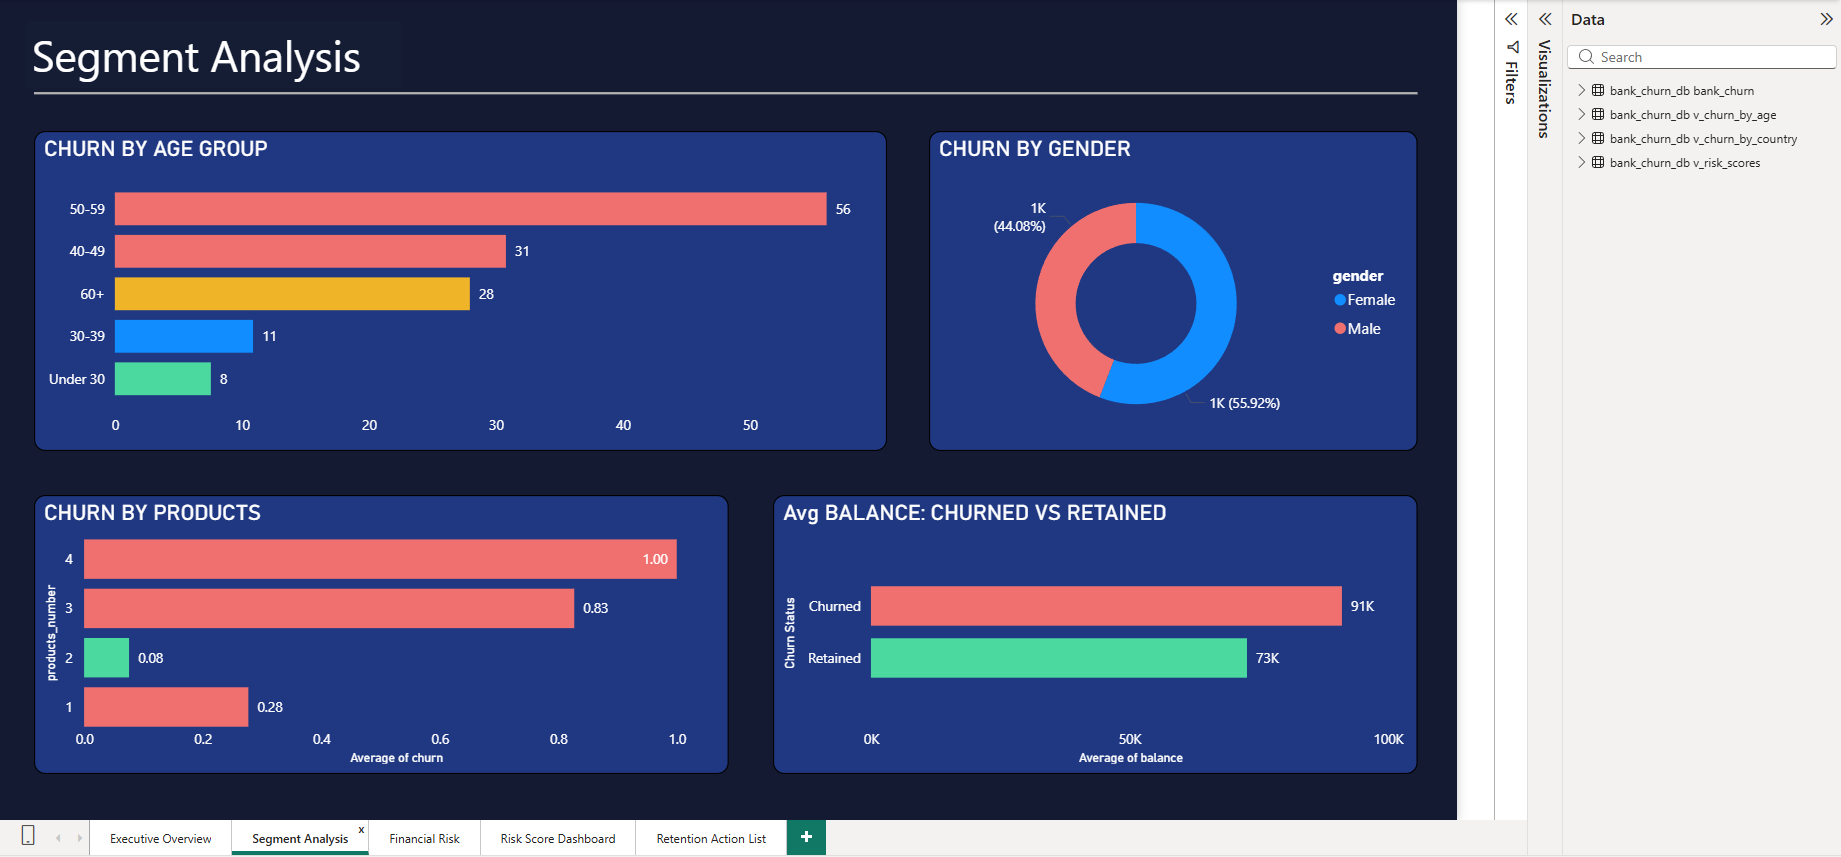

Layout of this report page (visuals, bound fields, positions):
{"tool":"powerbi","page":{"name":"Segment Analysis","canvas":[1280,720],"ordinal":1},"visuals":[{"type":"clusteredBarChart","title":"CHURN BY AGE GROUP","fields":{"Category":["bank_churn_db v_churn_by_age.age_group"],"Y":["Avg(bank_churn_db v_churn_by_age.churn_rate_pct)"]},"box":[30.7,115.1,748.8,280.9],"z":0},{"type":"donutChart","title":"CHURN BY  GENDER","fields":{"Category":["bank_churn_db bank_churn.gender"],"Y":["Sum(bank_churn_db bank_churn.churn)"]},"box":[816.9,115.1,428.6,280.9],"z":1000},{"type":"clusteredBarChart","title":"CHURN BY PRODUCTS","fields":{"Category":["bank_churn_db bank_churn.products_number"],"Y":["Avg(bank_churn_db bank_churn.churn)"]},"box":[30.7,434.3,609.8,245.5],"z":2000},{"type":"clusteredBarChart","title":"Avg BALANCE: CHURNED VS RETAINED","fields":{"Category":["bank_churn_db bank_churn.Churn Status"],"Y":["Avg(bank_churn_db bank_churn.balance)"]},"box":[679.8,434.3,565.7,245.5],"z":3000},{"type":"textbox","box":[24,18.2,328.9,59.4],"z":4000},{"type":"shape","box":[30.7,47.9,1214.8,67.1],"z":5000}]}

Visuals, with their boxes on the page's 1280x720 design canvas (x1, y1, x2, y2). These are canvas units, not pixel positions in the 1841x857 screenshot, which may show the page scaled, cropped or inside an application window:
"CHURN BY AGE GROUP" clusteredBarChart: <bbox>31, 115, 780, 396</bbox>
"CHURN BY  GENDER" donutChart: <bbox>817, 115, 1246, 396</bbox>
"CHURN BY PRODUCTS" clusteredBarChart: <bbox>31, 434, 640, 680</bbox>
"Avg BALANCE: CHURNED VS RETAINED" clusteredBarChart: <bbox>680, 434, 1246, 680</bbox>
textbox: <bbox>24, 18, 353, 78</bbox>
shape: <bbox>31, 48, 1246, 115</bbox>
